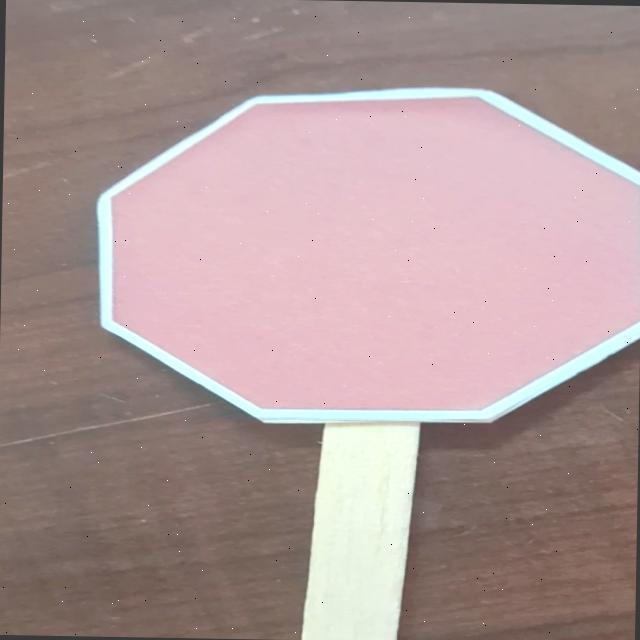Stop: (82, 70, 640, 430)
